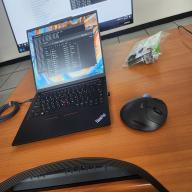Mouse: (119, 93, 169, 133)
